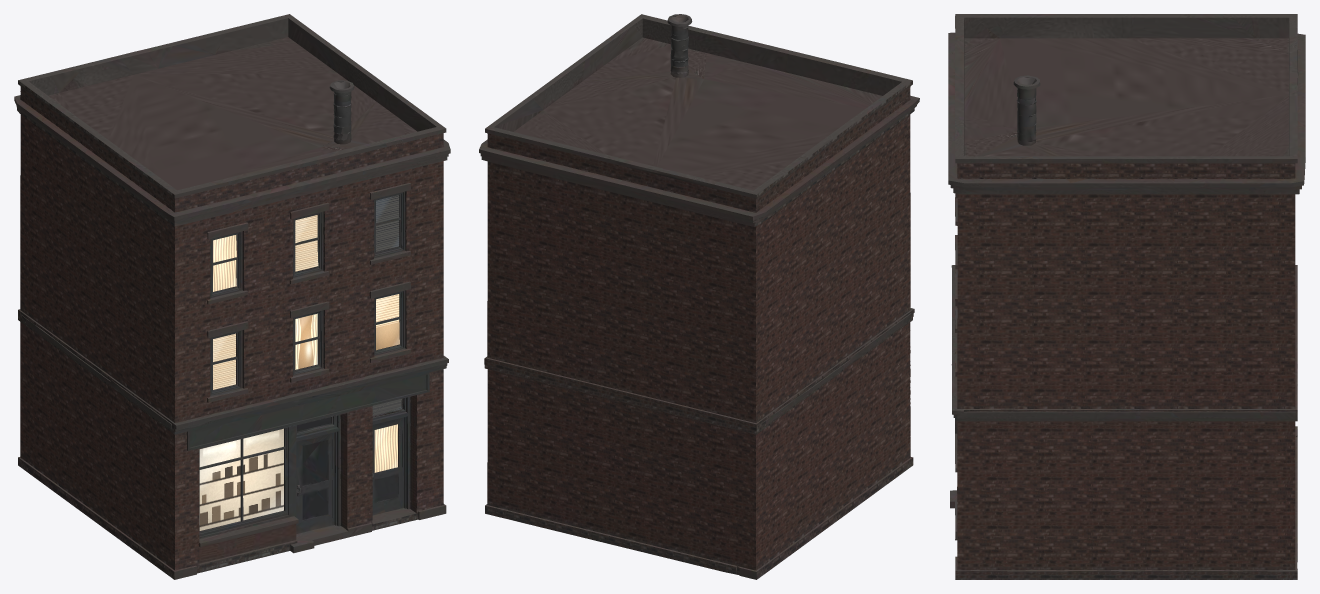
The model's file is apt-mixed-use.glb.
The picture shows the model from 3 angles, left to right: view 1: azimuth 30°, elevation 25°; view 2: azimuth 150°, elevation 25°; view 3: azimuth 270°, elevation 25°; orthographic projection. The views are drawn at different scales.
Parts seen in each view (by area): view 1: Mesh_0; view 2: Mesh_0; view 3: Mesh_0.
Part boxes in pixels (bbox=[...]): Mesh_0: bbox=[14, 14, 450, 579]; Mesh_0: bbox=[479, 14, 919, 579]; Mesh_0: bbox=[948, 14, 1305, 579].
Size of the model in its own units: 7.03 by 10 by 7.03.
Materials: 5 (5 with a texture image).
